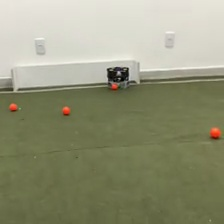ball: (208, 125, 222, 140), (60, 105, 71, 116), (8, 101, 18, 111), (111, 82, 118, 90)
goal: (9, 56, 141, 93)
robot: (105, 65, 131, 89)
